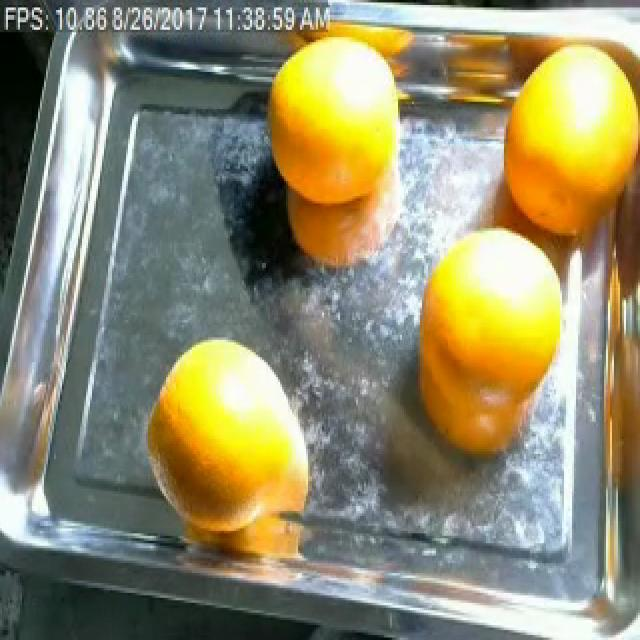Fruit: (132, 322, 316, 521), (254, 15, 420, 233)
